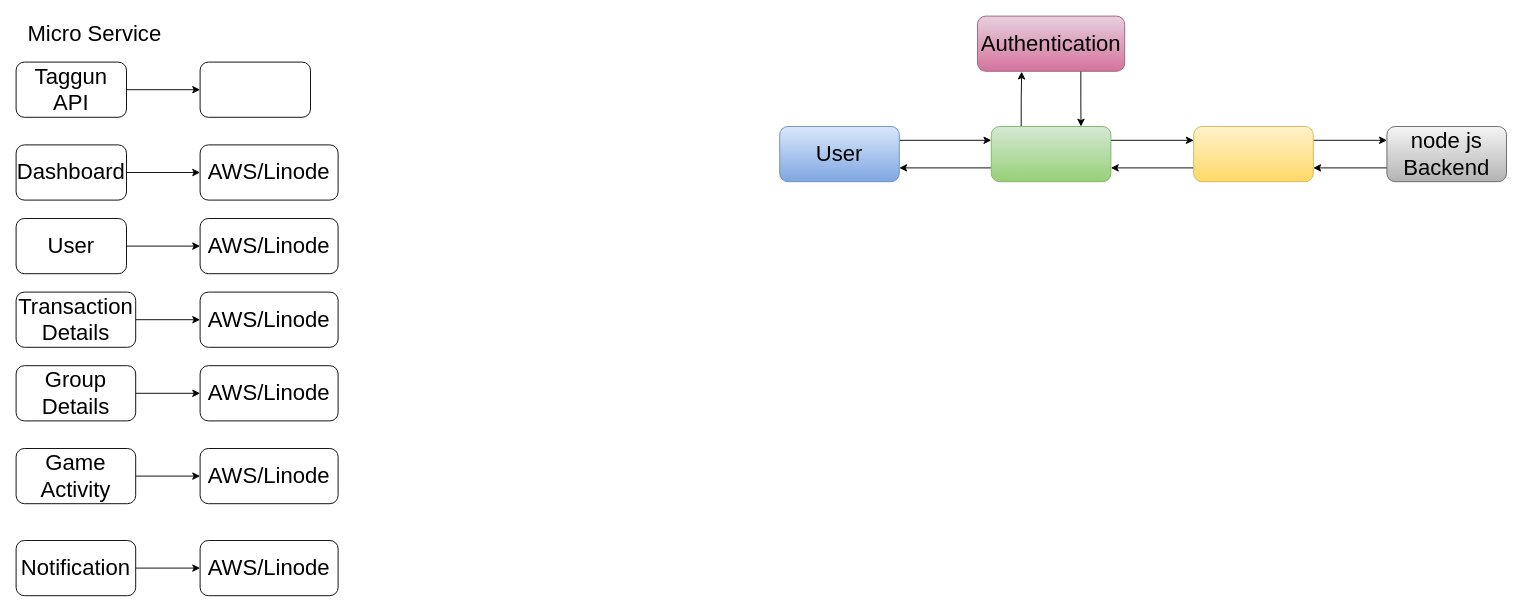
Some shapes in this 1523 by 612 pixel diagram are drawn without their labels. The shapes that lost their labels are listed below. From the top down, each one's centre as x and y in pixels, then its label:
the point at 254,89: Linode
the point at 1050,154: Proxy
the point at 1253,154: Server
